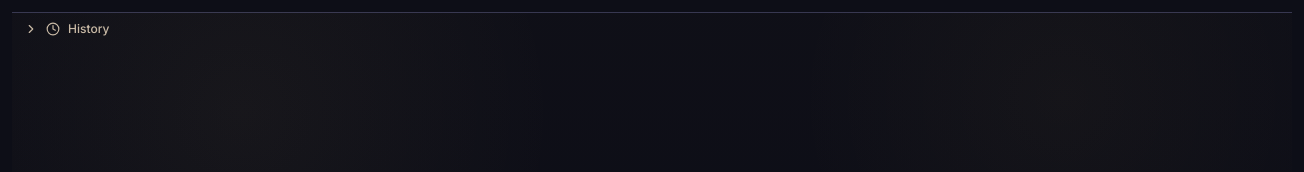
Scenario: EntityHistoryPanel — loading state › shows loading spinner when data is loading
Click the button "History": (89, 28) [12,13,1292,45]
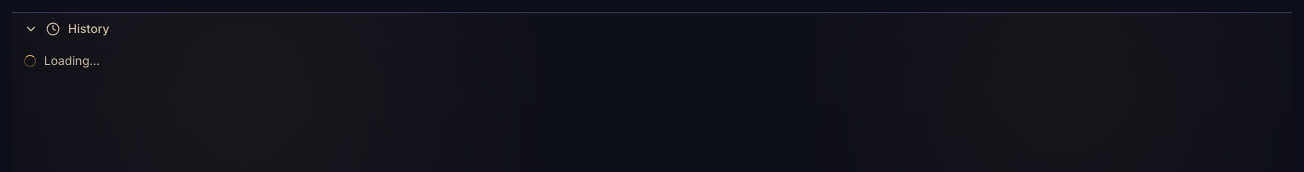
Now the text "Loading…" is shown, box [24,53,100,68]
